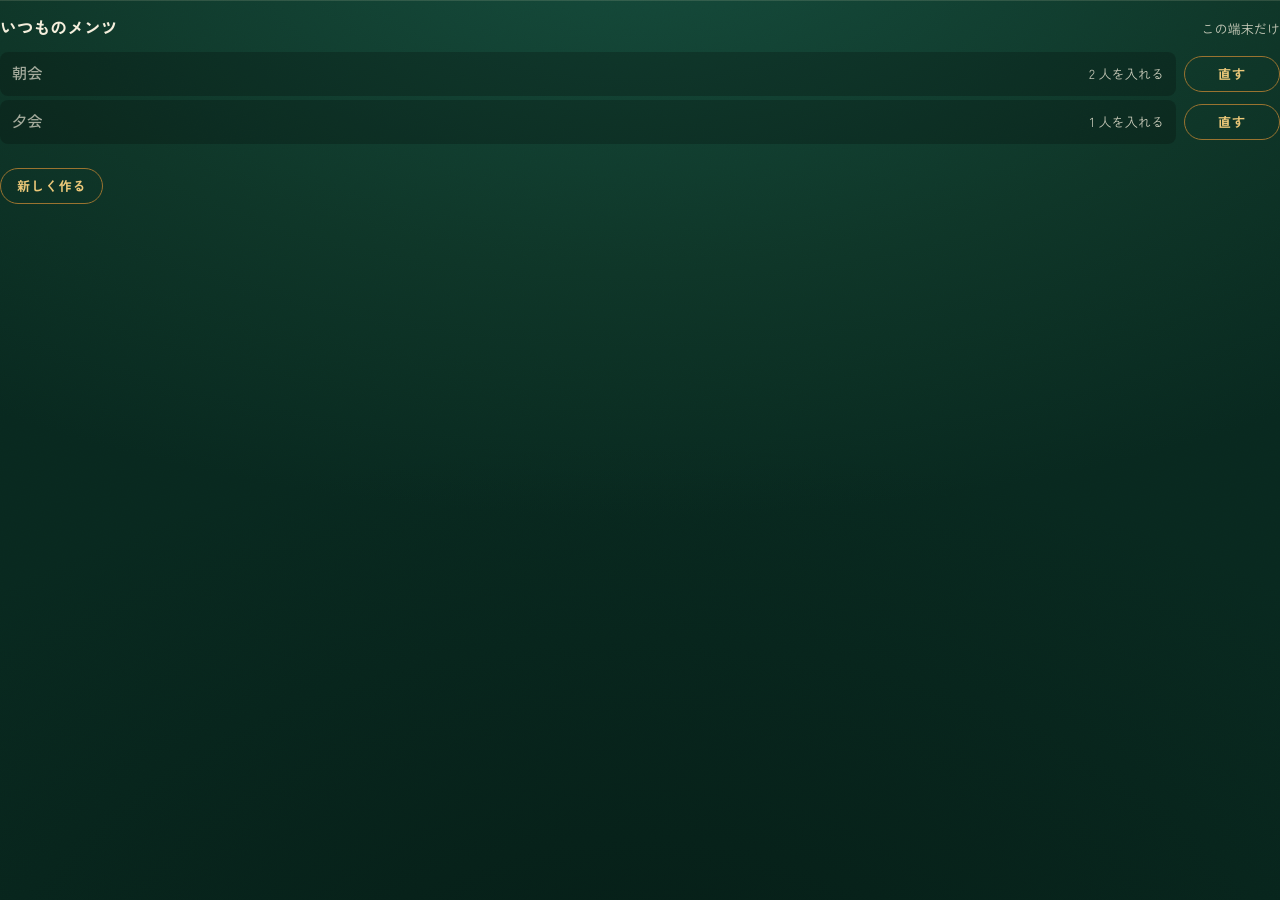
Test: 直す・消す › Given 回転中（locked）で直して保存 / Then 止まった札でなく、その組の直すボタンへフォーカス
Click the button with aria-label "朝会 を直す" at (1232, 74), box [1184, 56, 1279, 92]
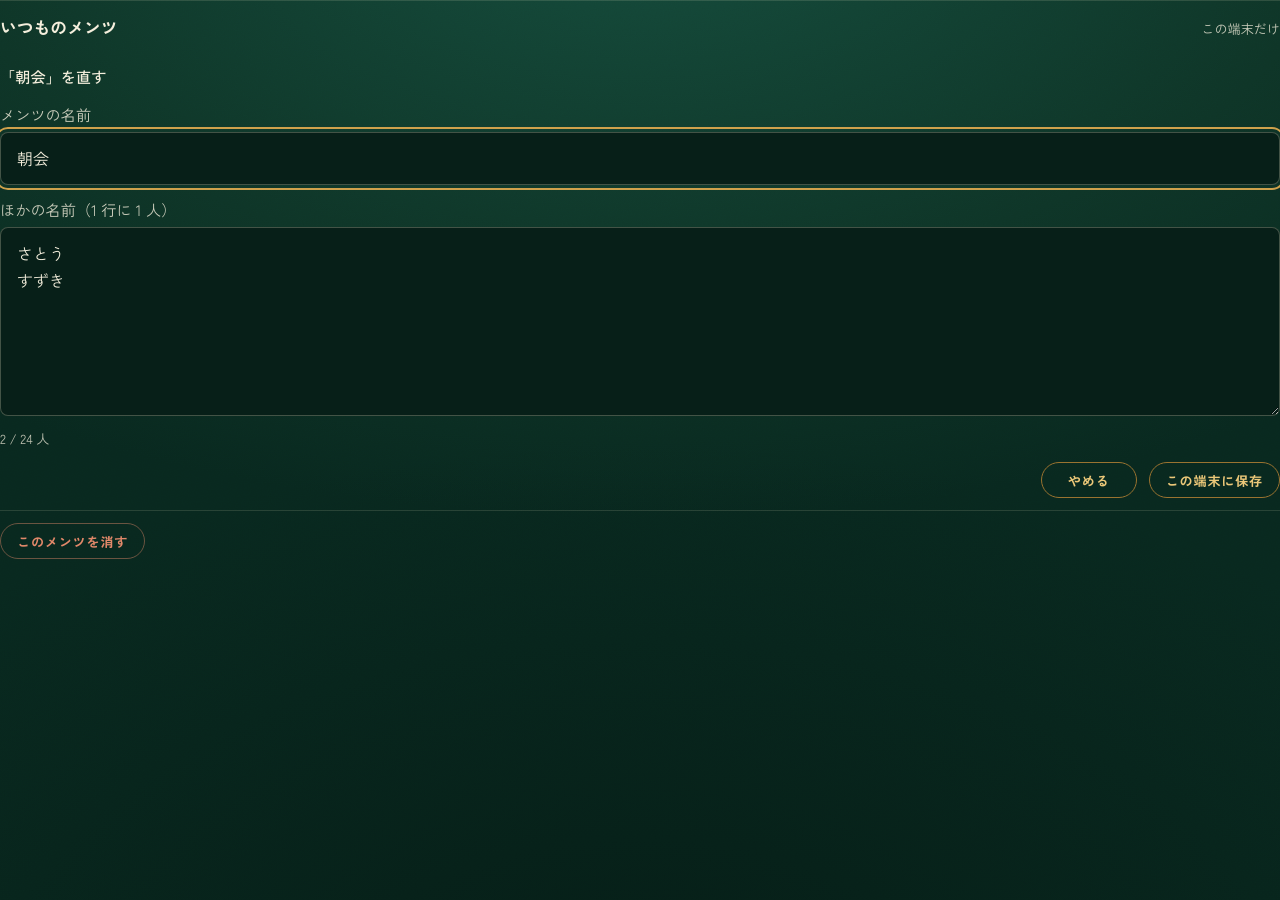
Replace the text in the field labelled "メンツの名前" with "朝の会" at (640, 159), box [0, 132, 1279, 185]
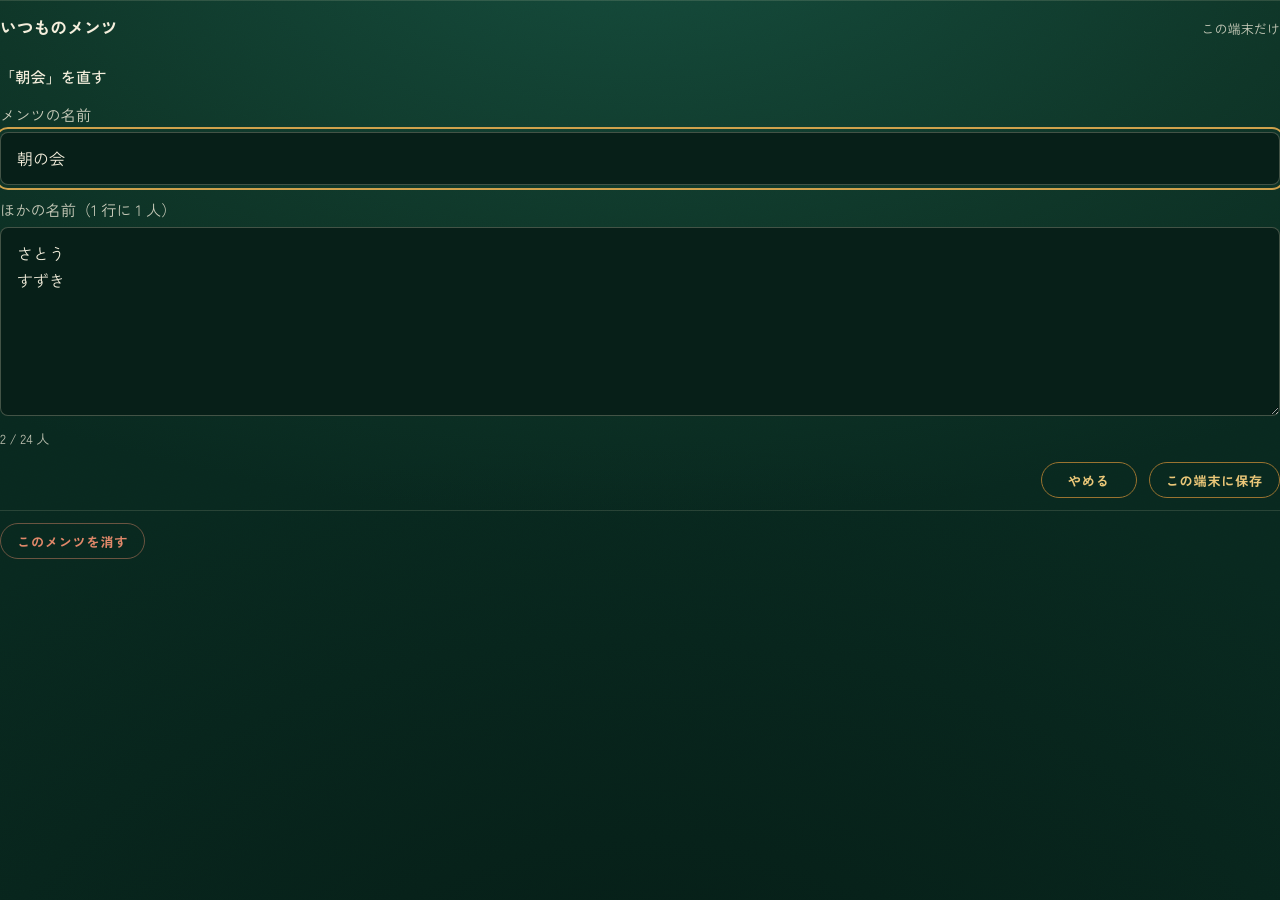
Click the button "この端末に保存" at (1214, 480), box [1149, 462, 1279, 498]
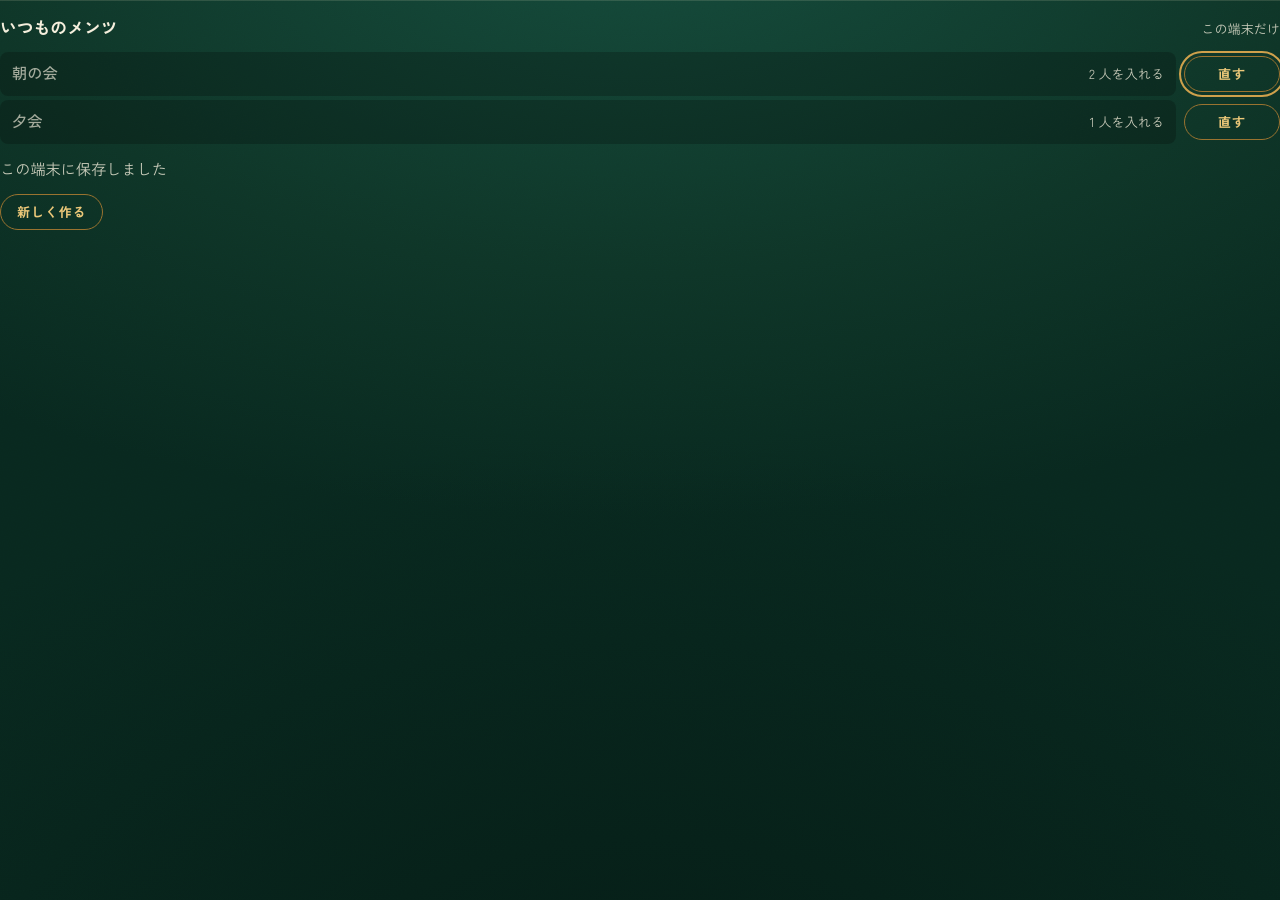
Now the button "朝の会 2 人を入れる" is disabled, box [0, 52, 1176, 96]
